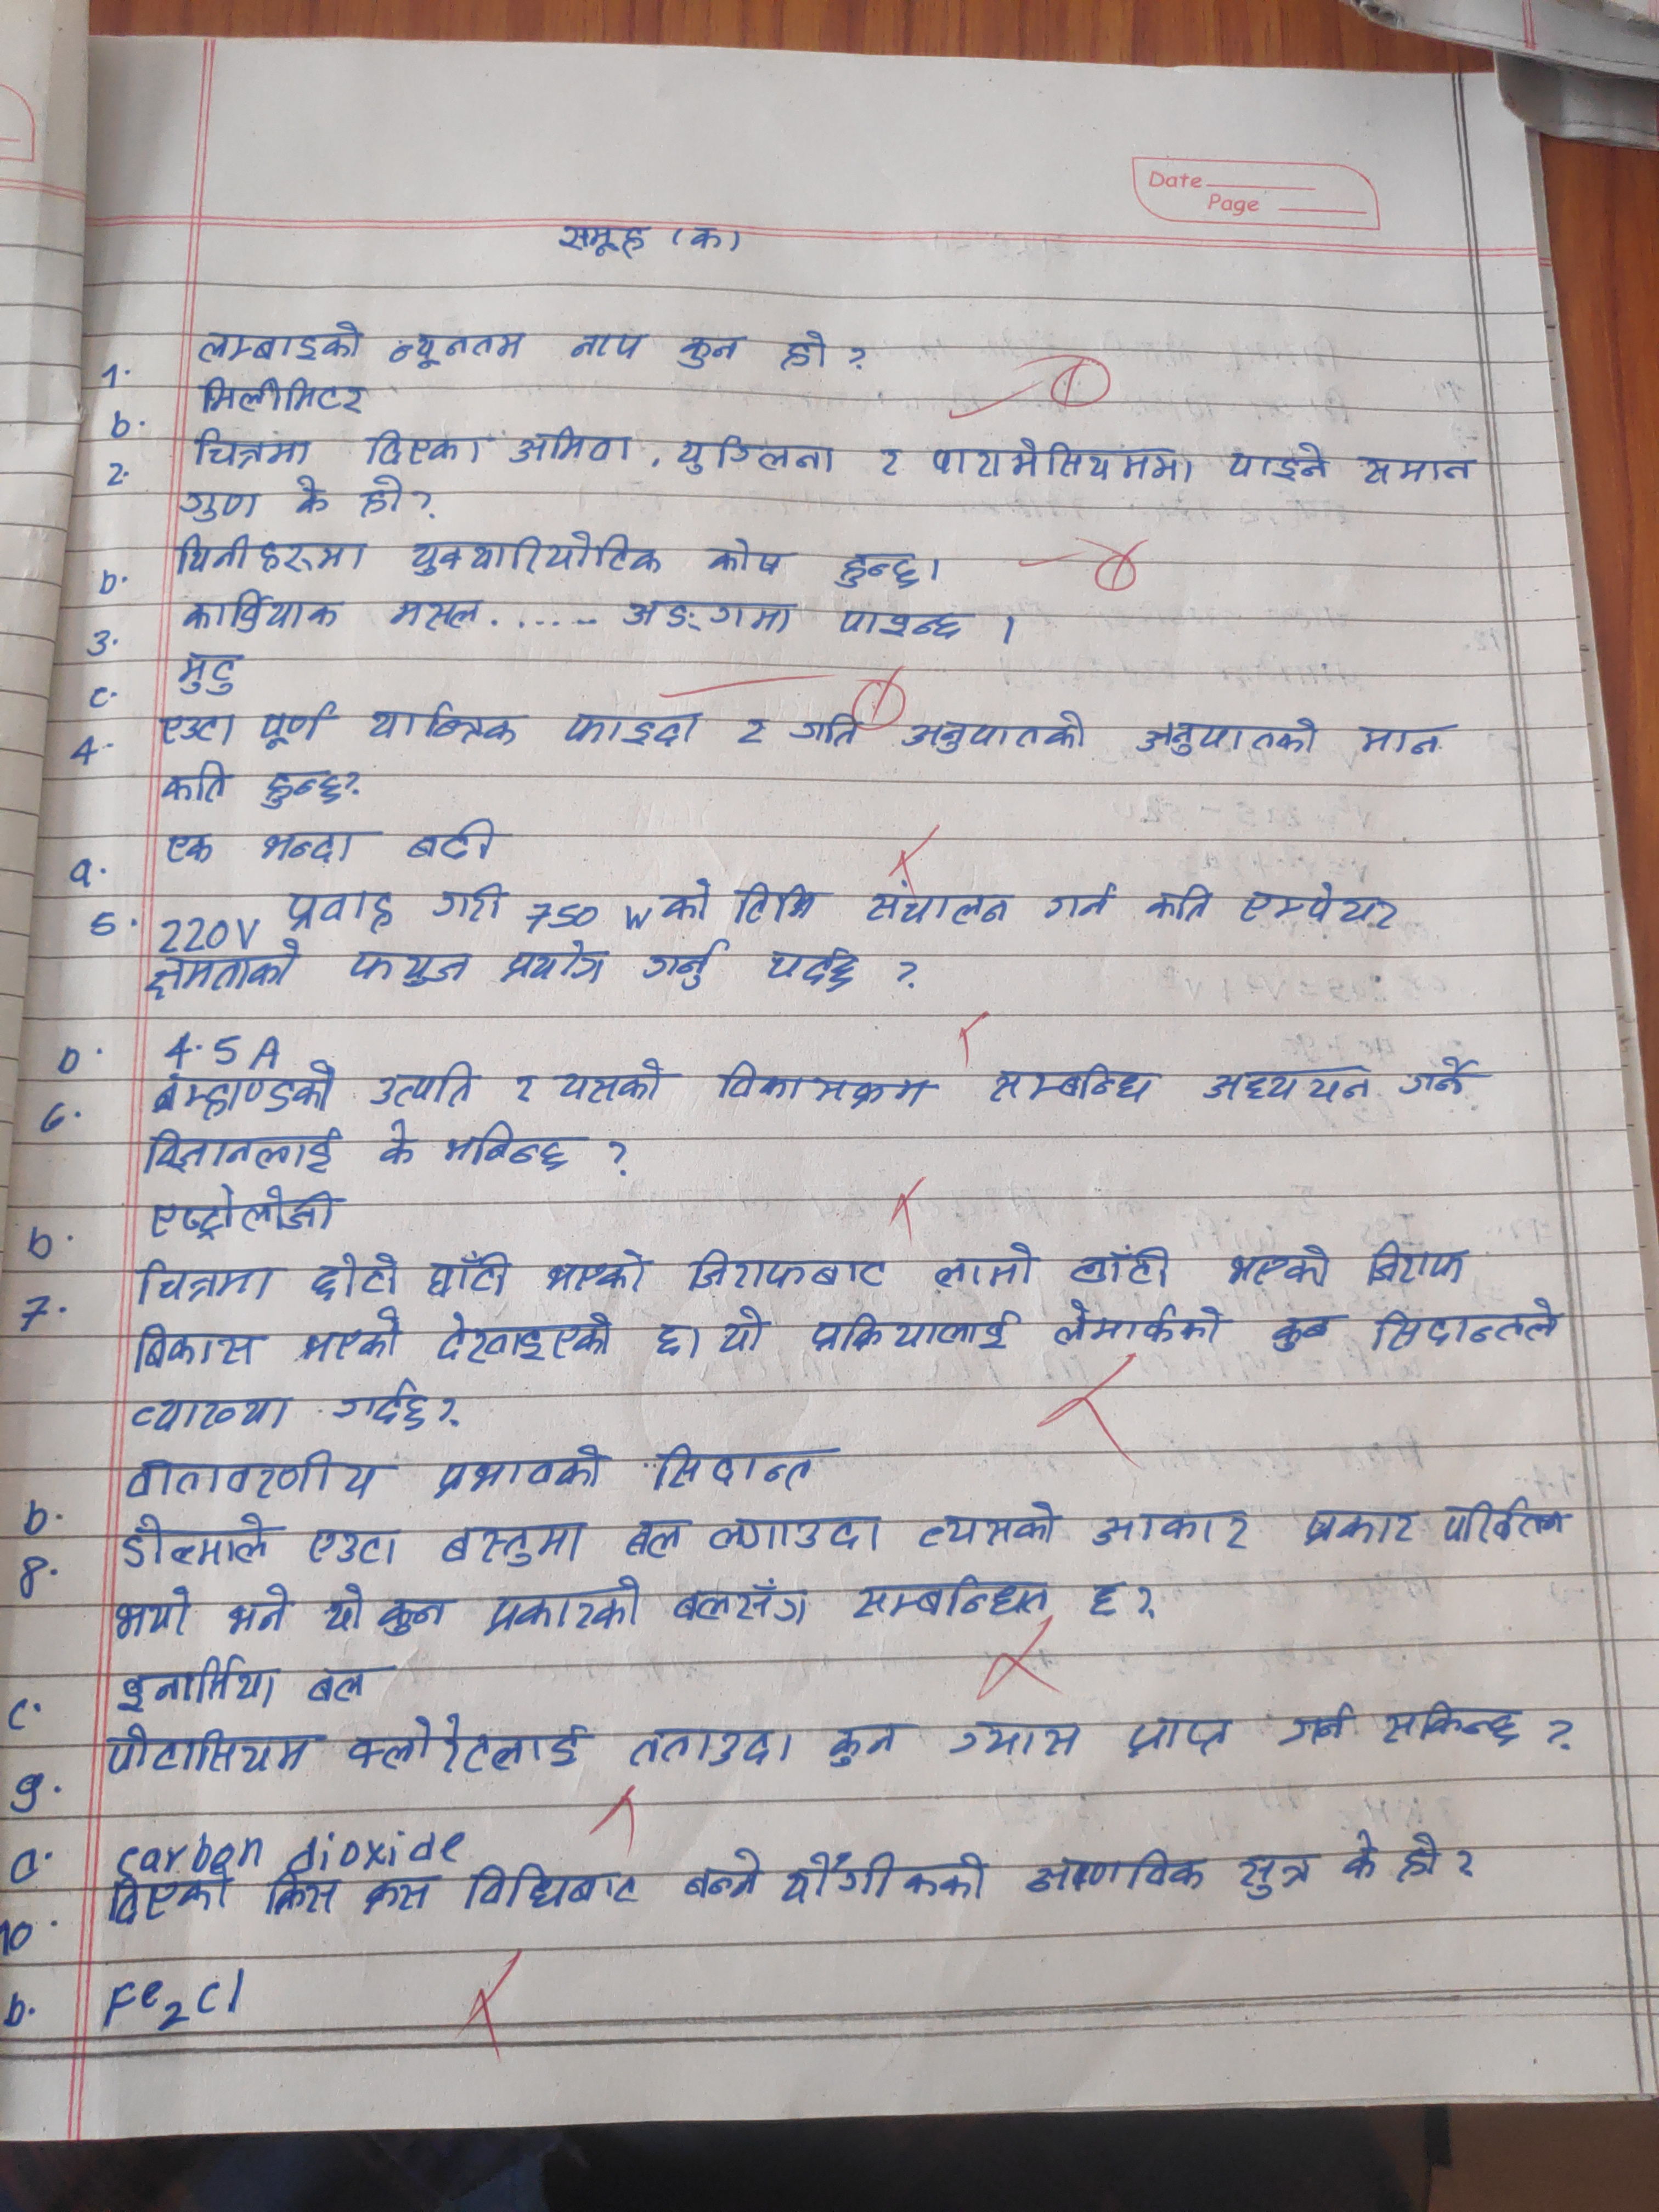text: (349, 1712, 582, 1780), (124, 1446, 383, 1501), (925, 434, 1194, 486), (406, 529, 666, 580), (145, 1183, 354, 1245), (770, 1846, 992, 1905), (1373, 1292, 1567, 1355), (713, 1059, 932, 1113), (106, 1723, 317, 1778), (854, 1573, 1054, 1627), (809, 1308, 1026, 1357), (432, 1440, 606, 1501), (653, 1440, 831, 1500), (437, 1306, 617, 1364), (148, 1064, 343, 1116), (117, 1656, 284, 1717), (1134, 709, 1324, 761), (479, 1580, 650, 1637), (113, 1510, 277, 1569), (467, 1862, 647, 1916), (690, 1245, 889, 1294), (174, 526, 371, 575), (979, 1057, 1161, 1109), (1021, 1848, 1213, 1897), (190, 317, 368, 368), (673, 430, 833, 486), (146, 1127, 340, 1172), (915, 1496, 1054, 1559), (195, 371, 371, 420), (1053, 1298, 1229, 1346), (143, 949, 301, 1003), (1384, 1700, 1530, 1757), (903, 711, 1094, 754), (439, 1519, 592, 1573), (125, 1388, 289, 1439), (134, 1318, 268, 1378), (1236, 883, 1403, 930), (1201, 1061, 1384, 1103), (708, 1514, 890, 1555), (622, 597, 796, 641), (627, 1724, 793, 1770), (132, 1259, 286, 1308), (106, 1871, 239, 1926), (1089, 1508, 1258, 1552), (1431, 1498, 1570, 1550), (558, 712, 709, 758), (181, 590, 345, 632), (436, 1122, 575, 1170), (369, 700, 519, 745), (866, 883, 1009, 928), (1223, 1240, 1331, 1299), (953, 1716, 1084, 1764), (296, 1306, 404, 1364), (385, 327, 525, 371), (347, 942, 476, 989), (676, 1583, 814, 1627), (328, 1376, 432, 1432), (366, 1061, 484, 1109), (1227, 434, 1333, 488), (284, 887, 401, 935), (495, 937, 612, 986), (542, 1247, 657, 1296), (511, 421, 629, 469), (554, 1057, 673, 1104), (1117, 1710, 1236, 1757), (934, 1237, 1040, 1289), (1300, 1501, 1422, 1547), (1070, 1245, 1175, 1298), (676, 1844, 765, 1905), (307, 1247, 403, 1303), (1363, 1242, 1473, 1289), (640, 934, 725, 993), (112, 1581, 197, 1641), (192, 425, 310, 467), (364, 428, 484, 469), (408, 817, 509, 864), (1358, 451, 1476, 491), (760, 949, 864, 995), (1351, 719, 1453, 765), (1232, 1846, 1317, 1900), (261, 826, 361, 871), (833, 608, 967, 641), (420, 1249, 514, 1296), (734, 880, 824, 928), (254, 697, 342, 747), (221, 1581, 293, 1642), (303, 1526, 403, 1569), (1277, 1700, 1359, 1752), (702, 536, 795, 582), (835, 545, 924, 590), (383, 590, 479, 632), (552, 221, 652, 261), (260, 766, 345, 812), (265, 1876, 347, 1923), (824, 1721, 904, 1768), (1267, 1305, 1338, 1357), (1398, 1054, 1480, 1099), (432, 881, 511, 928), (178, 644, 242, 700), (716, 1303, 775, 1362), (174, 482, 261, 523), (303, 1662, 380, 1707), (159, 707, 244, 747), (788, 707, 864, 751), (1389, 1829, 1446, 1886), (364, 1874, 439, 1918), (568, 327, 650, 366), (160, 759, 228, 805), (1040, 880, 1117, 920), (376, 1599, 450, 1641), (620, 1519, 687, 1564), (1143, 881, 1215, 921), (662, 876, 716, 928), (676, 331, 744, 371), (321, 1581, 369, 1635), (779, 327, 830, 378), (647, 1315, 697, 1366), (376, 1115, 422, 1169), (1082, 1573, 1124, 1627), (164, 833, 221, 871), (1344, 1827, 1378, 1890), (288, 470, 331, 519), (359, 474, 410, 516), (730, 711, 767, 751), (875, 441, 906, 486), (687, 223, 725, 258), (509, 1071, 542, 1111)
